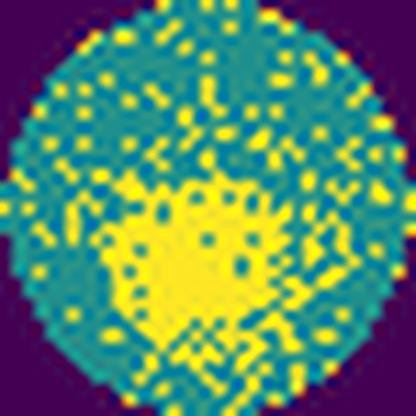Edge-Loc: (89, 169, 304, 359), (286, 215, 356, 310)
